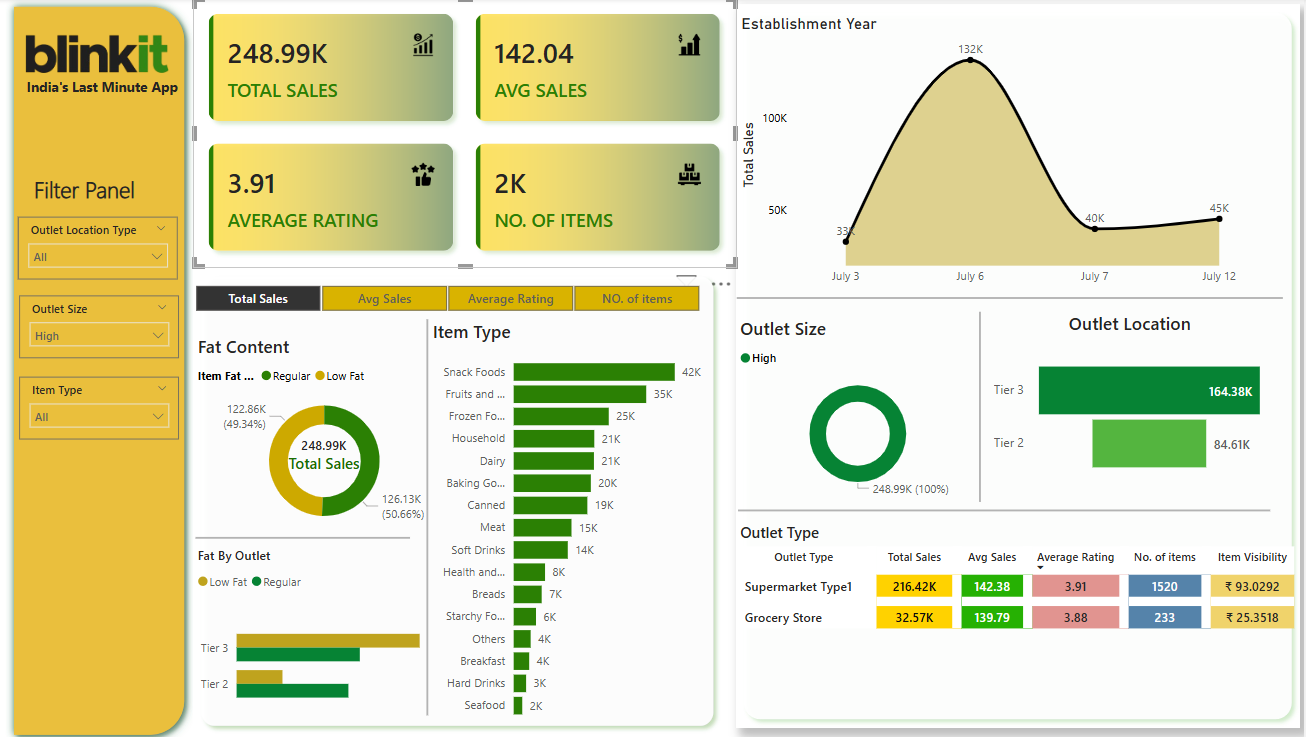

The dashboard page shown, as its layout file describes it:
{"tool":"powerbi","page":{"name":"Page 1","canvas":[1400,800],"ordinal":0},"visuals":[{"type":"shape","box":[8,0,201.1,800.3],"z":0},{"type":"image","box":[13.4,0,186.3,116.6],"z":1000},{"type":"textbox","box":[25.5,80.4,199.7,36.2],"z":2000},{"type":"cardVisual","fields":{"Data":["BlinkIT Grocery Data.Total Sales","BlinkIT Grocery Data.Avg Sales","BlinkIT Grocery Data.Average Rating","BlinkIT Grocery Data.NO. of items"]},"box":[209.1,0,583.1,289.5],"z":3000},{"type":"shape","box":[209.1,289.5,567,500],"z":4000},{"type":"donutChart","title":" Fat Content","fields":{"Y":["BlinkIT Grocery Data.Total Sales"],"Category":["BlinkIT Grocery Data.Item Fat Content"]},"box":[209.1,360.6,281.5,218.5],"z":5000},{"type":"slicer","fields":{"Values":["Metric.Metric"]},"box":[186.3,301.6,589.8,40.2],"z":6000},{"type":"cardVisual","fields":{"Data":["BlinkIT Grocery Data.Total Sales"]},"box":[293.6,439.7,112.6,100.5],"z":7000},{"type":"clusteredBarChart","title":"Fat By Outlet","fields":{"Y":["BlinkIT Grocery Data.Total Sales"],"Category":["BlinkIT Grocery Data.Outlet Location Type"],"Series":["BlinkIT Grocery Data.Item Fat Content"]},"box":[209.1,588.5,252,203.8],"z":8000},{"type":"shape","box":[211.8,569.7,234.6,18.8],"z":9000},{"type":"barChart","title":"Item Type","fields":{"Y":["BlinkIT Grocery Data.Total Sales"],"Category":["BlinkIT Grocery Data.Item Type"]},"box":[461.1,344.5,317.7,438.3],"z":10000},{"type":"shape","box":[790.9,6.7,605.9,776.1],"z":11000},{"type":"lineChart","title":"Establishment Year","fields":{"Y":["BlinkIT Grocery Data.Total Sales"],"Category":["BlinkIT Grocery Data.Outlet Establishment Year.Variation.Date Hierarchy.Month","BlinkIT Grocery Data.Outlet Establishment Year.Variation.Date Hierarchy.Day"]},"box":[792.2,17.4,576.4,298.9],"z":12000},{"type":"shape","box":[792.2,319,585.8,5.4],"z":13000},{"type":"donutChart","title":"Outlet Size","fields":{"Category":["BlinkIT Grocery Data.Outlet Size"],"Y":["BlinkIT Grocery Data.Total Sales"]},"box":[790.9,341.8,262.7,198.4],"z":14000},{"type":"shape","box":[422.3,339.1,76.4,443.7],"z":15000},{"type":"shape","box":[945,336.5,215.8,203.8],"z":16000},{"type":"shape","box":[352.5,344.5,215.8,424.9],"z":17000},{"type":"shape","box":[793.6,537.5,573.7,24.1],"z":18000},{"type":"funnel","title":"Outlet Location ","fields":{"Y":["BlinkIT Grocery Data.Total Sales"],"Category":["BlinkIT Grocery Data.Outlet Location Type"]},"box":[1063,336.5,301.6,203.8],"z":19000},{"type":"pivotTable","title":"Outlet Type","fields":{"Values":["BlinkIT Grocery Data.Total Sales","BlinkIT Grocery Data.Avg Sales","BlinkIT Grocery Data.Average Rating","BlinkIT Grocery Data.No.  of items","Sum(BlinkIT Grocery Data.Item Visibility)"],"Rows":["BlinkIT Grocery Data.Outlet Type"]},"box":[790.9,561.7,608.6,227.9],"z":20000},{"type":"slicer","fields":{"Values":["BlinkIT Grocery Data.Outlet Location Type"]},"box":[21.4,234.6,171.6,67],"z":21000},{"type":"slicer","fields":{"Values":["BlinkIT Grocery Data.Outlet Size"]},"box":[22.8,319,171.6,67],"z":22000},{"type":"slicer","fields":{"Values":["BlinkIT Grocery Data.Item Type"]},"box":[22.8,406.2,171.6,67],"z":23000},{"type":"textbox","box":[33.5,183.6,186.3,67],"z":24000}]}

Visuals, with their boxes in screenshot pixels (x1, y1, x2, y2), scaled from the page's 1400x800 canvas onto the 1306x737 screenshot:
shape: 7 0 195 736
image: 13 0 186 107
textbox: 24 74 210 107
cardVisual - BlinkIT Grocery Data.Total Sales x BlinkIT Grocery Data.Avg Sales: 195 0 739 267
shape: 195 267 724 727
" Fat Content" donutChart: 195 332 458 533
slicer - Metric.Metric: 174 278 724 315
cardVisual - BlinkIT Grocery Data.Total Sales: 274 405 379 498
"Fat By Outlet" clusteredBarChart: 195 542 430 730
shape: 198 525 416 542
"Item Type" barChart: 430 317 727 721
shape: 738 6 1303 721
"Establishment Year" lineChart: 739 16 1277 291
shape: 739 294 1285 299
"Outlet Size" donutChart: 738 315 983 498
shape: 394 312 465 721
shape: 882 310 1083 498
shape: 329 317 530 709
shape: 740 495 1275 517
"Outlet Location " funnel: 992 310 1273 498
"Outlet Type" pivotTable: 738 517 1305 727
slicer - BlinkIT Grocery Data.Outlet Location Type: 20 216 180 278
slicer - BlinkIT Grocery Data.Outlet Size: 21 294 181 356
slicer - BlinkIT Grocery Data.Item Type: 21 374 181 436
textbox: 31 169 205 231
